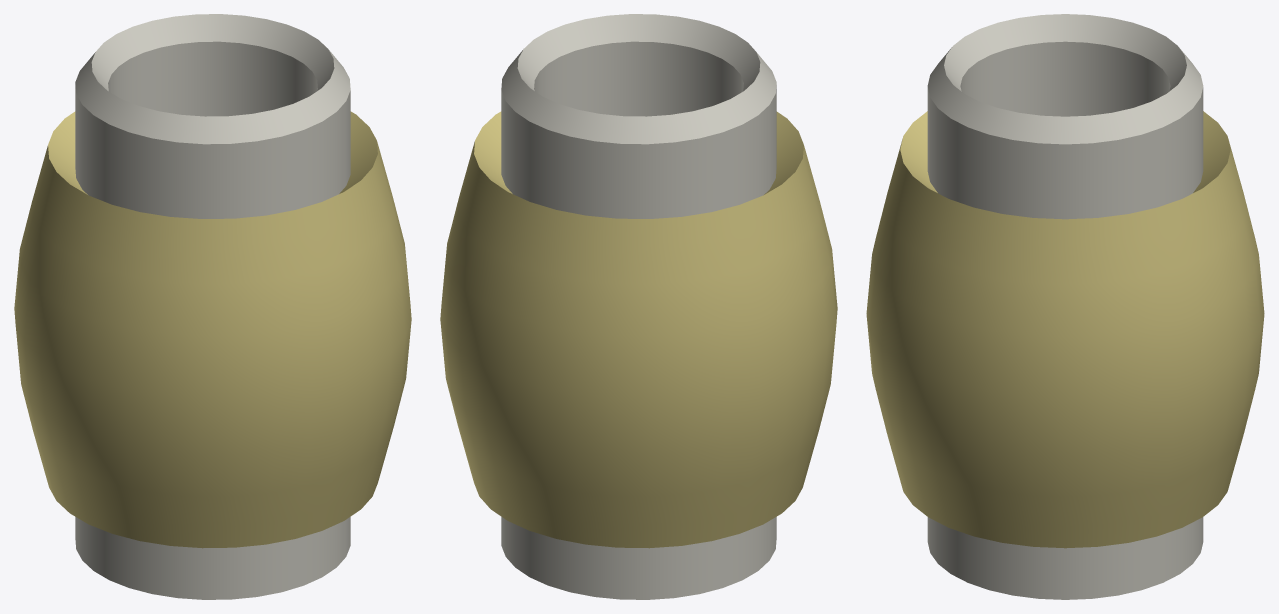
Rendered from Threads_low.fbx.
The picture shows the model from 3 angles, left to right: view 1: azimuth 30°, elevation 25°; view 2: azimuth 150°, elevation 25°; view 3: azimuth 270°, elevation 25°; orthographic projection.
Parts seen in each view (by area): view 1: Reel_of_thread; view 2: Reel_of_thread; view 3: Reel_of_thread.
Part boxes in pixels (<box>): Reel_of_thread: <box>14,14,411,599</box>; Reel_of_thread: <box>440,14,837,599</box>; Reel_of_thread: <box>866,14,1264,599</box>.
Bounding box in the file's own units: 210 × 278 × 210.
